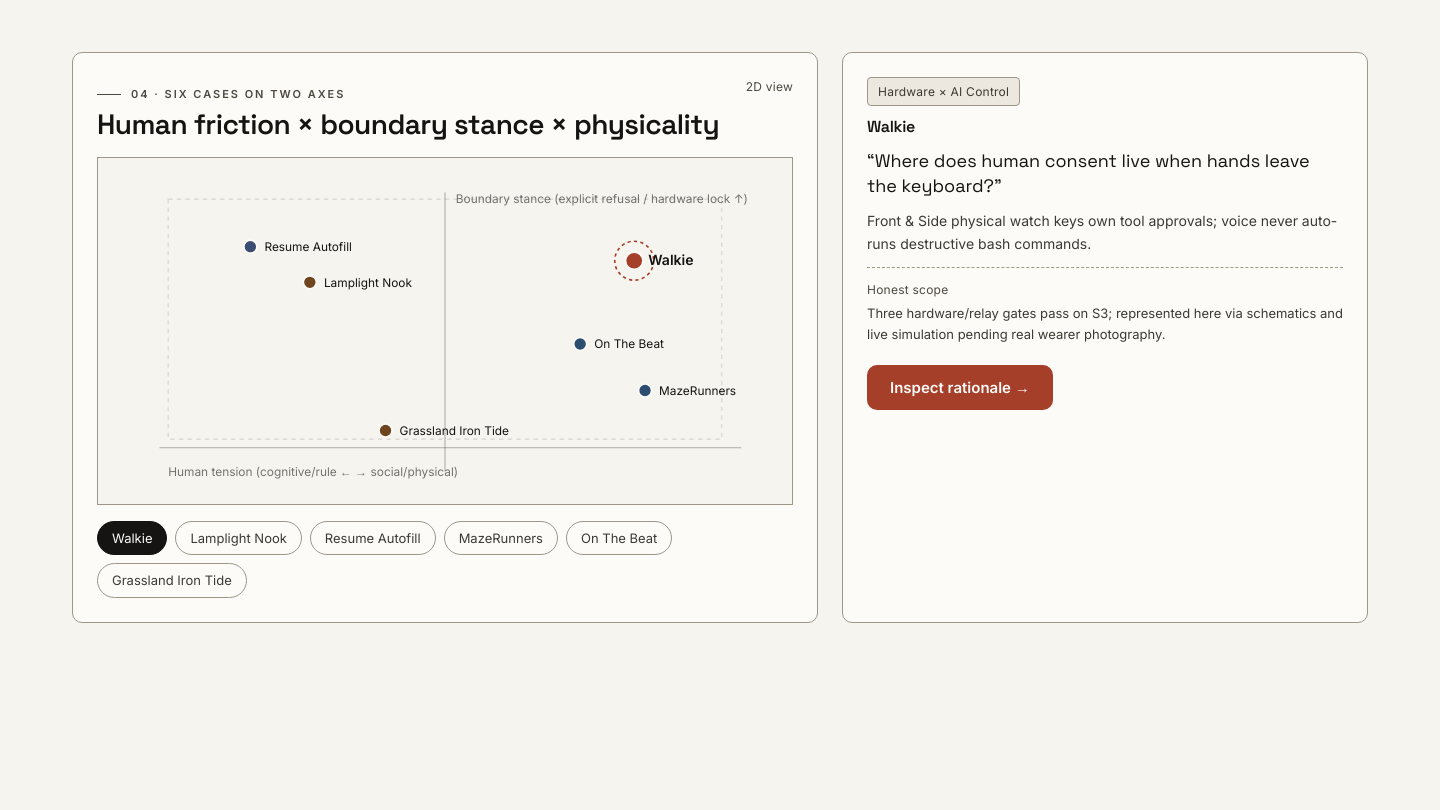
Test: Three.js Specimen Kernel & Silent Fallback › renders 0ms SVG specimen axes and 6 keyboard-navigable nodes when WebGL is disabled
Expected: the picture with test id "specimen-svg-baseline" is shown, [98, 158, 792, 504]
Click the button with aria-label "Select specimen: On The Beat".
click(619, 538)  # box [566, 521, 672, 556]
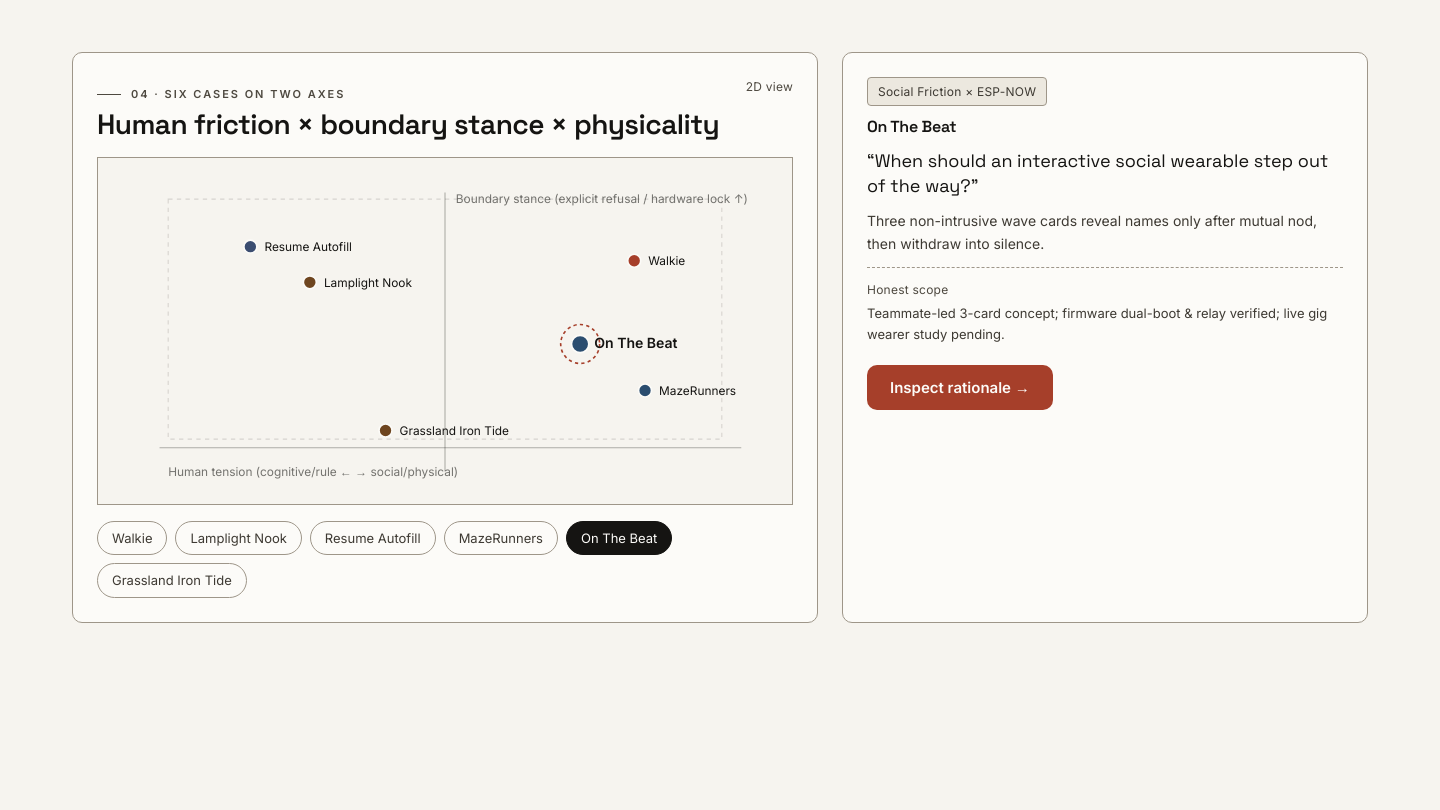
Expected: the heading with test id "specimen-active-title" reads "On The Beat", [867, 116, 956, 137]
Expected: the text with test id "specimen-active-question" reads "“When should an interactive social wearable step out of the way?”", [867, 149, 1328, 197]
